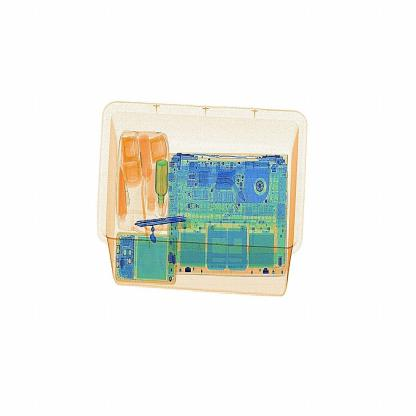pliers: (129, 207, 203, 243)
